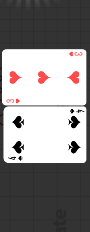3H: (67, 51, 83, 58)
4C: (7, 155, 24, 162)
